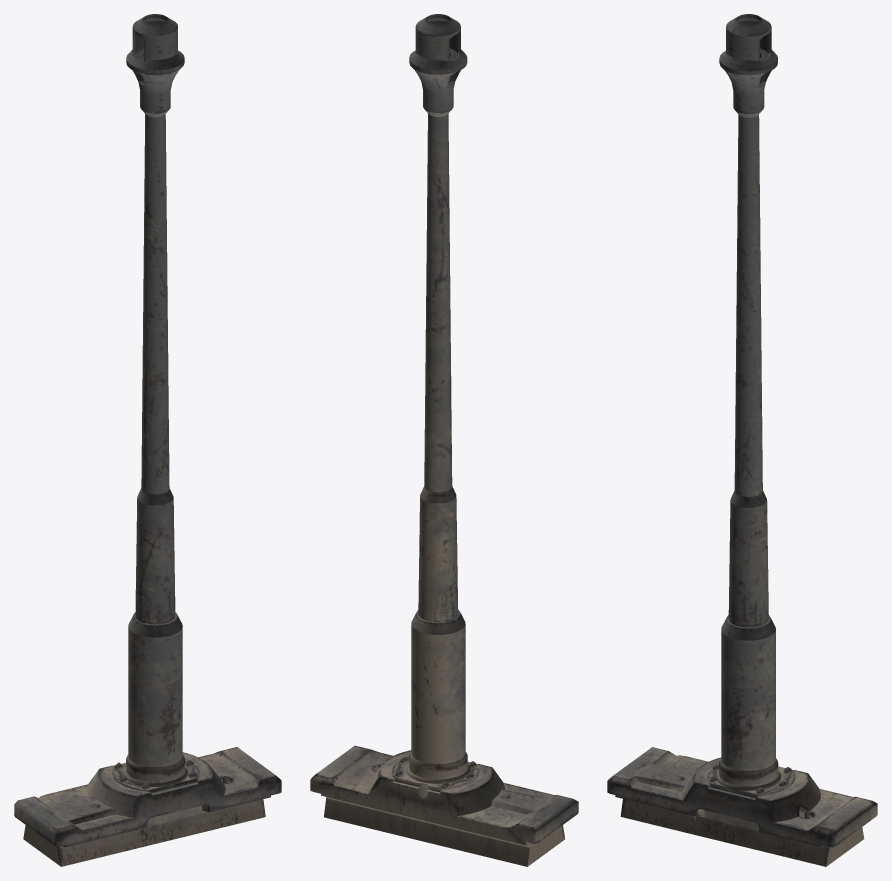
The model's file is Gun_06.glb.
3 views of the same model, side by side, from view 1: azimuth 30°, elevation 25°; view 2: azimuth 150°, elevation 25°; view 3: azimuth 330°, elevation 25° (orthographic).
Parts seen in each view (by area): view 1: set_0_group_0; view 2: set_0_group_0; view 3: set_0_group_0.
Boxes of the visible parts, x1,y1,x2,y2 form: set_0_group_0: (14, 14, 281, 866); set_0_group_0: (310, 14, 578, 866); set_0_group_0: (607, 14, 877, 866).
Size of the model in its own units: 1.59 by 5.43 by 0.5607.
1 material, 1 textured.
